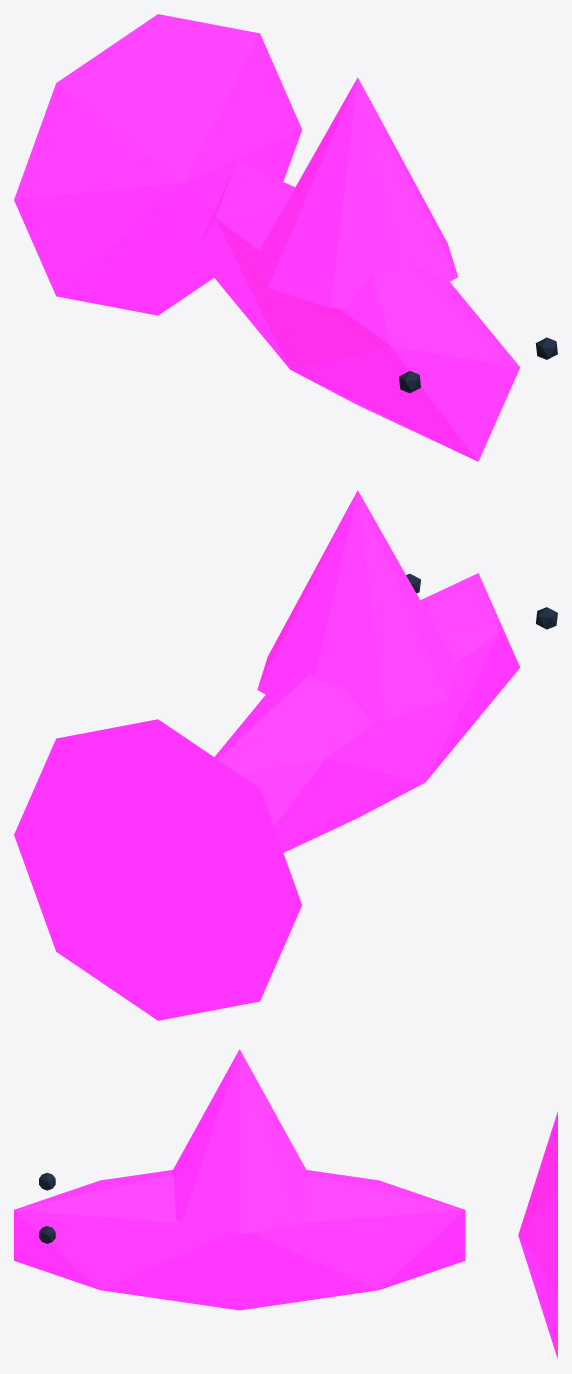
The model's file is PROP_fish-red_scene_20261005.glb.
The picture shows the model from 3 angles, top to bottom: view 1: azimuth 30°, elevation 25°; view 2: azimuth 150°, elevation 25°; view 3: azimuth 270°, elevation 25°; orthographic projection. The views are drawn at different scales.
Parts seen in each view (by area): view 1: FAUNA_Tail.003, FAUNA_Body.003, FAUNA_Dorsal.003; view 2: FAUNA_Tail.003, FAUNA_Body.003, FAUNA_Dorsal.003; view 3: FAUNA_Body.003, FAUNA_Dorsal.003, FAUNA_Tail.003.
Boxes of the visible parts, x1=… form: FAUNA_Tail.003: x1=14, y1=14, x2=301, y2=315; FAUNA_Body.003: x1=195, y1=160, x2=519, y2=461; FAUNA_Dorsal.003: x1=257, y1=77, x2=457, y2=308; FAUNA_Tail.003: x1=14, y1=719, x2=301, y2=1020; FAUNA_Body.003: x1=214, y1=573, x2=519, y2=852; FAUNA_Dorsal.003: x1=257, y1=490, x2=458, y2=720; FAUNA_Body.003: x1=14, y1=1170, x2=465, y2=1310; FAUNA_Dorsal.003: x1=171, y1=1049, x2=308, y2=1234; FAUNA_Tail.003: x1=518, y1=1111, x2=557, y2=1358.
Bounding box in the file's own units: 0.8 × 1.02 × 1.64.
